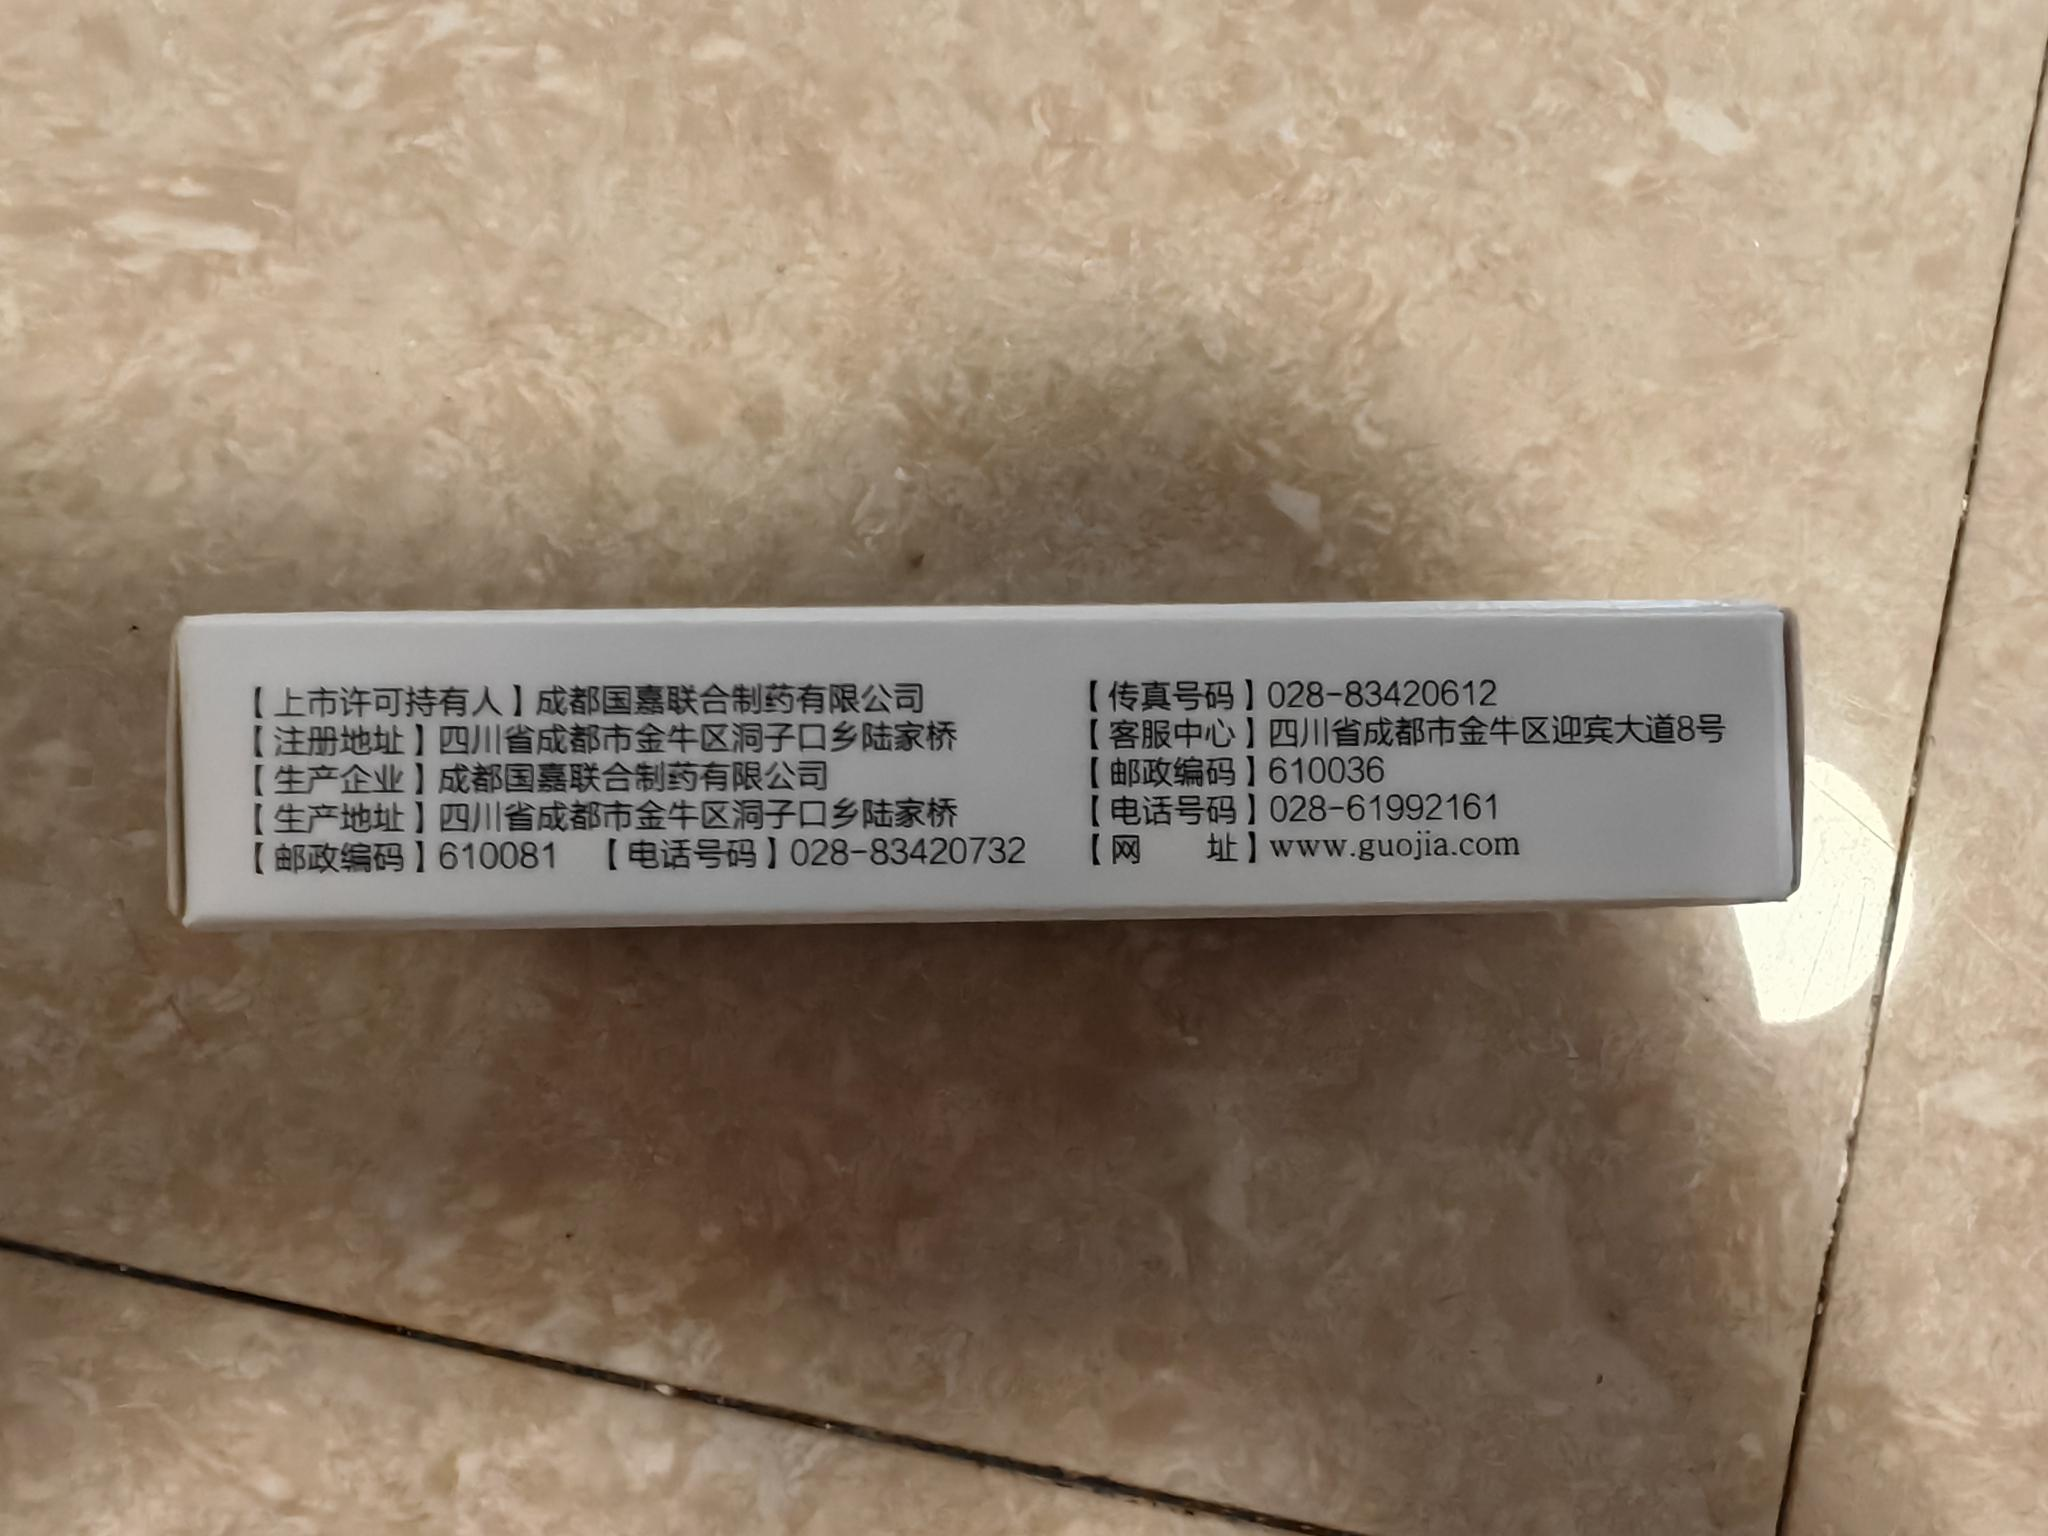Medicine4: (142, 586, 1827, 950)
